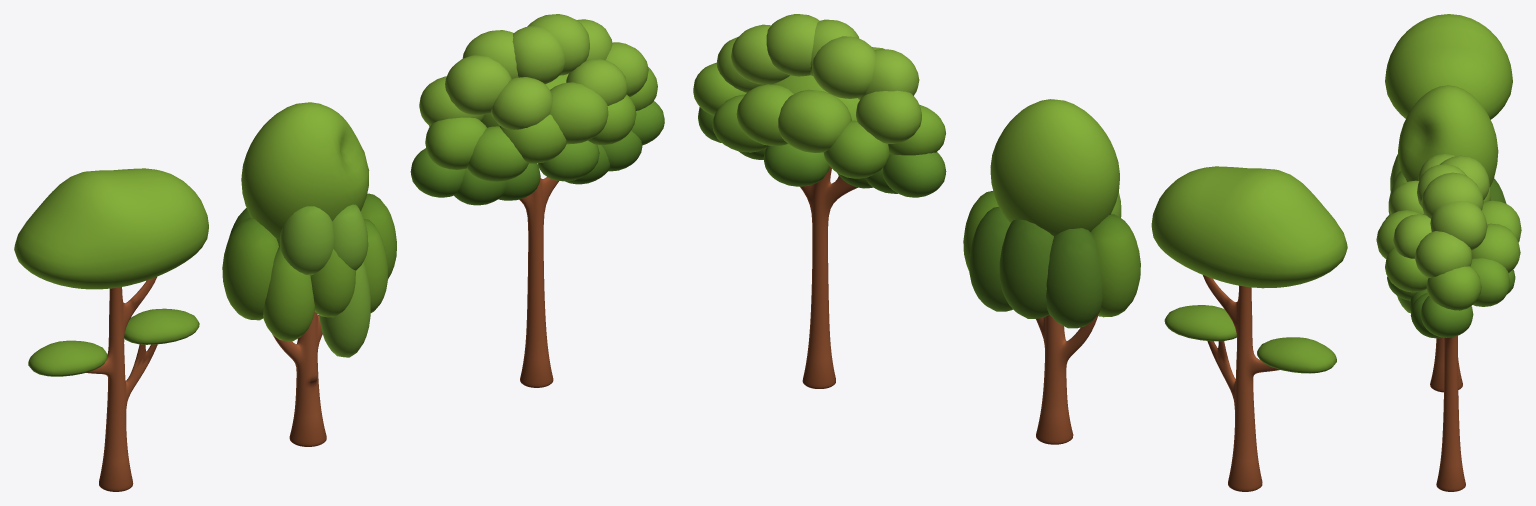
File: arvore.fbx
3 renders of one model, left to right at view 1: azimuth 30°, elevation 25°; view 2: azimuth 150°, elevation 25°; view 3: azimuth 270°, elevation 25°, orthographic. The views are drawn at different scales.
Parts seen in each view (by area): view 1: arvore 3, arvore 2, arvore 1; view 2: arvore 3, arvore 2, arvore 1; view 3: arvore 3, arvore 1, arvore 2.
Part boxes in pixels (x1,y1,x2,y2): arvore 3: (410, 14, 664, 387); arvore 2: (222, 102, 396, 446); arvore 1: (14, 168, 208, 491); arvore 3: (693, 14, 946, 388); arvore 2: (963, 99, 1140, 444); arvore 1: (1151, 166, 1347, 491); arvore 3: (1376, 154, 1521, 491); arvore 1: (1385, 14, 1512, 119); arvore 2: (1388, 85, 1506, 392).
Bounding box in the file's own units: 851 × 459 × 189.
